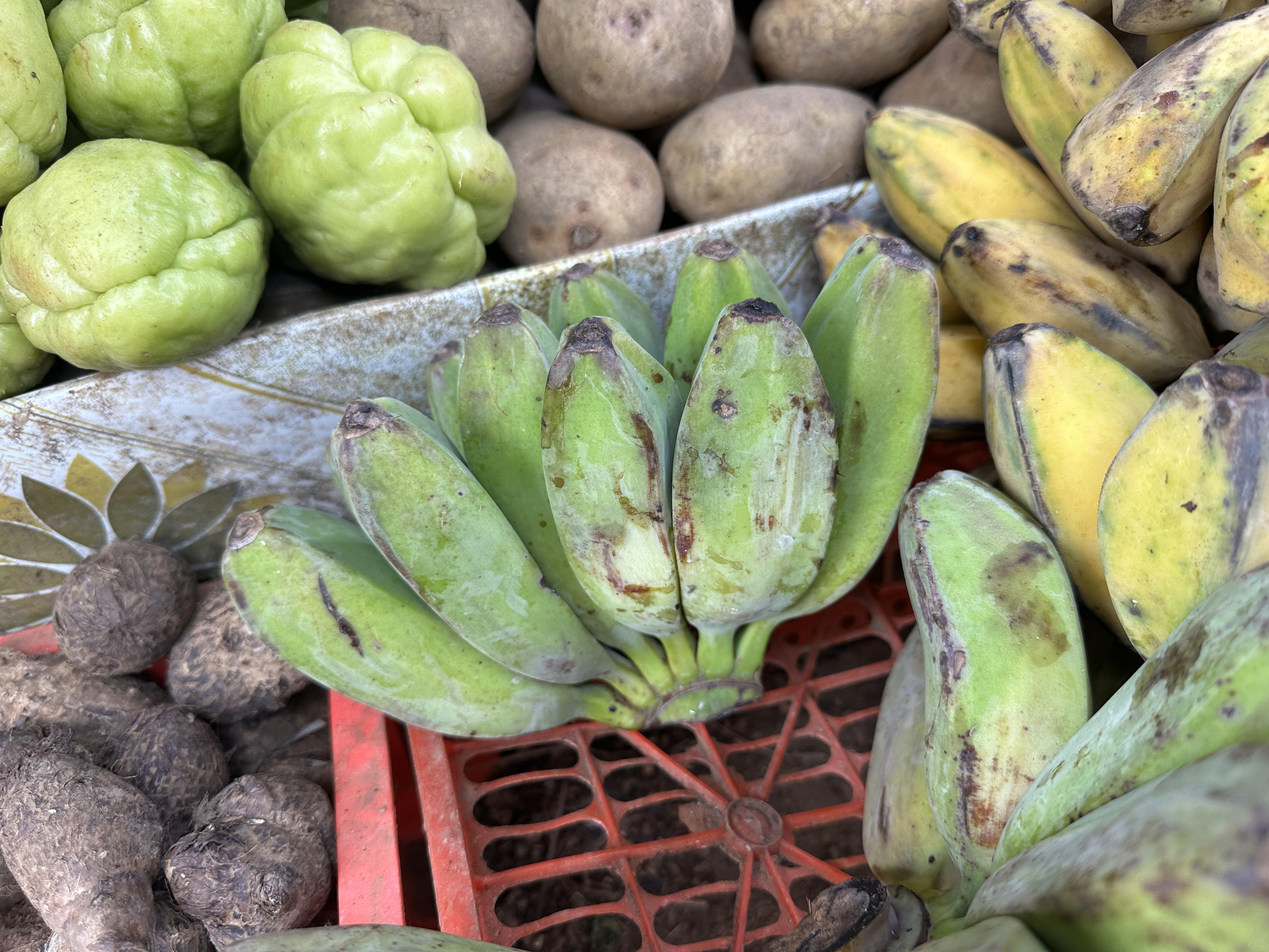underripe: (220, 231, 943, 741), (869, 469, 1269, 952), (866, 0, 1218, 390), (982, 320, 1269, 664), (1061, 0, 1269, 310)
